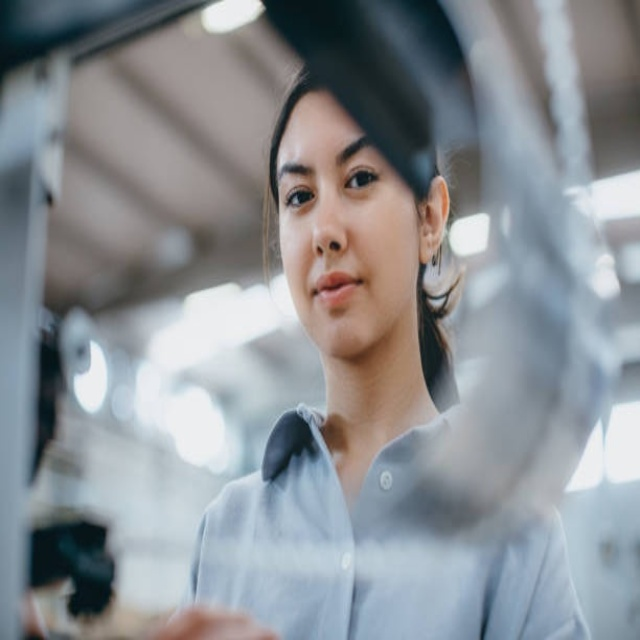Sin_gafas: (276, 152, 388, 220)
Sin_mascara: (301, 262, 373, 339)
